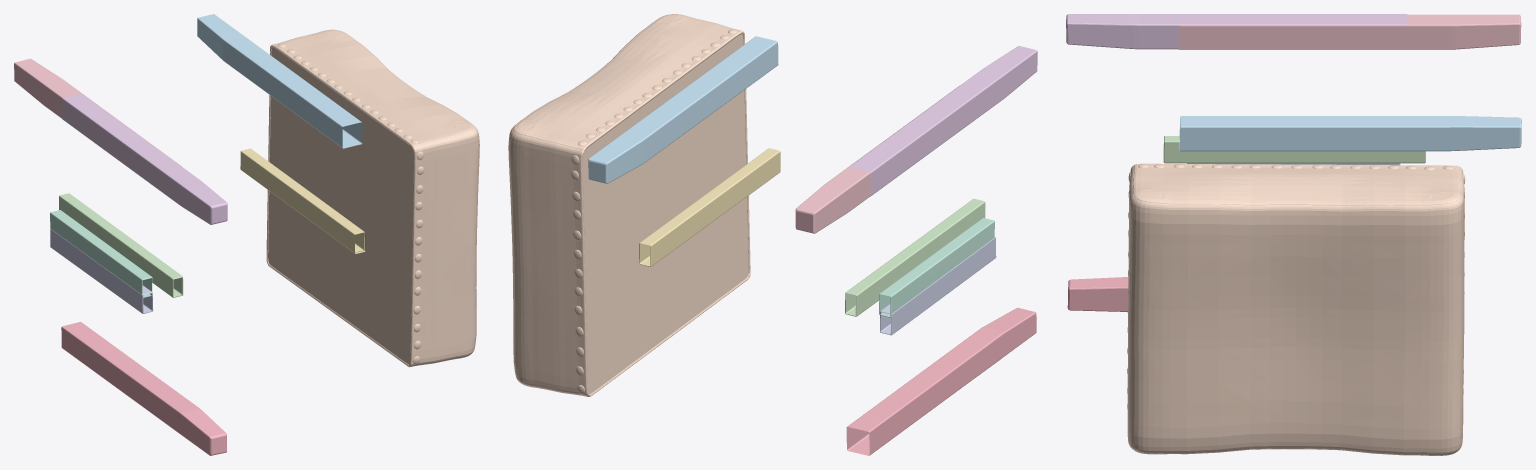
File: view_input_colored.glb
3 views of the same model, side by side, from view 1: azimuth 30°, elevation 25°; view 2: azimuth 150°, elevation 25°; view 3: azimuth 270°, elevation 25° (orthographic). The views are drawn at different scales.
Visible parts, largest first — view 1: world; view 2: world; view 3: world.
Part boxes in pixels (x1,y1,x2,y2): world: (14, 14, 479, 455); world: (508, 14, 1037, 455); world: (1066, 14, 1521, 455).
Size of the model in its own units: 0.7595 by 0.5693 by 0.8172.
